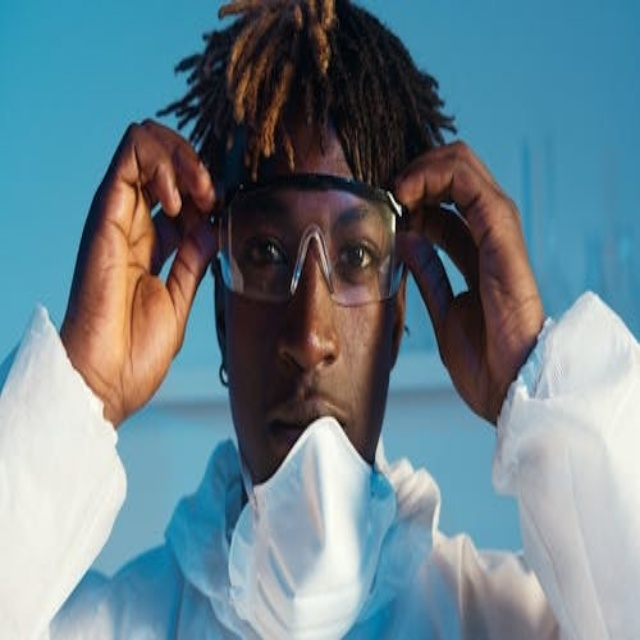Gafas: (214, 179, 412, 305)
Sin_guantes: (61, 114, 227, 430), (385, 139, 550, 438)
Sin_mascara: (255, 374, 355, 467)
